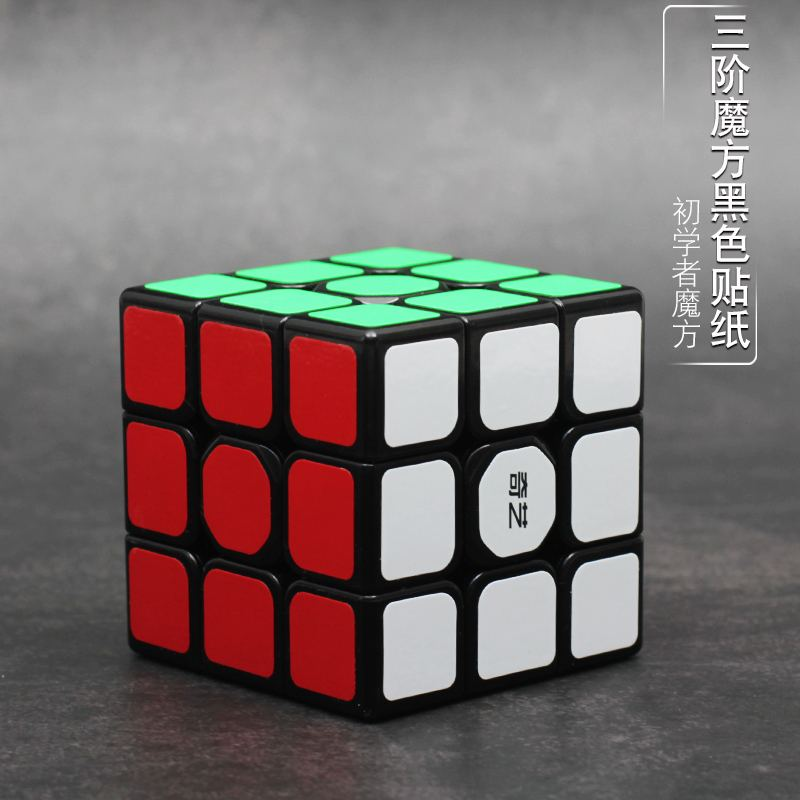cube: (102, 232, 659, 728)
